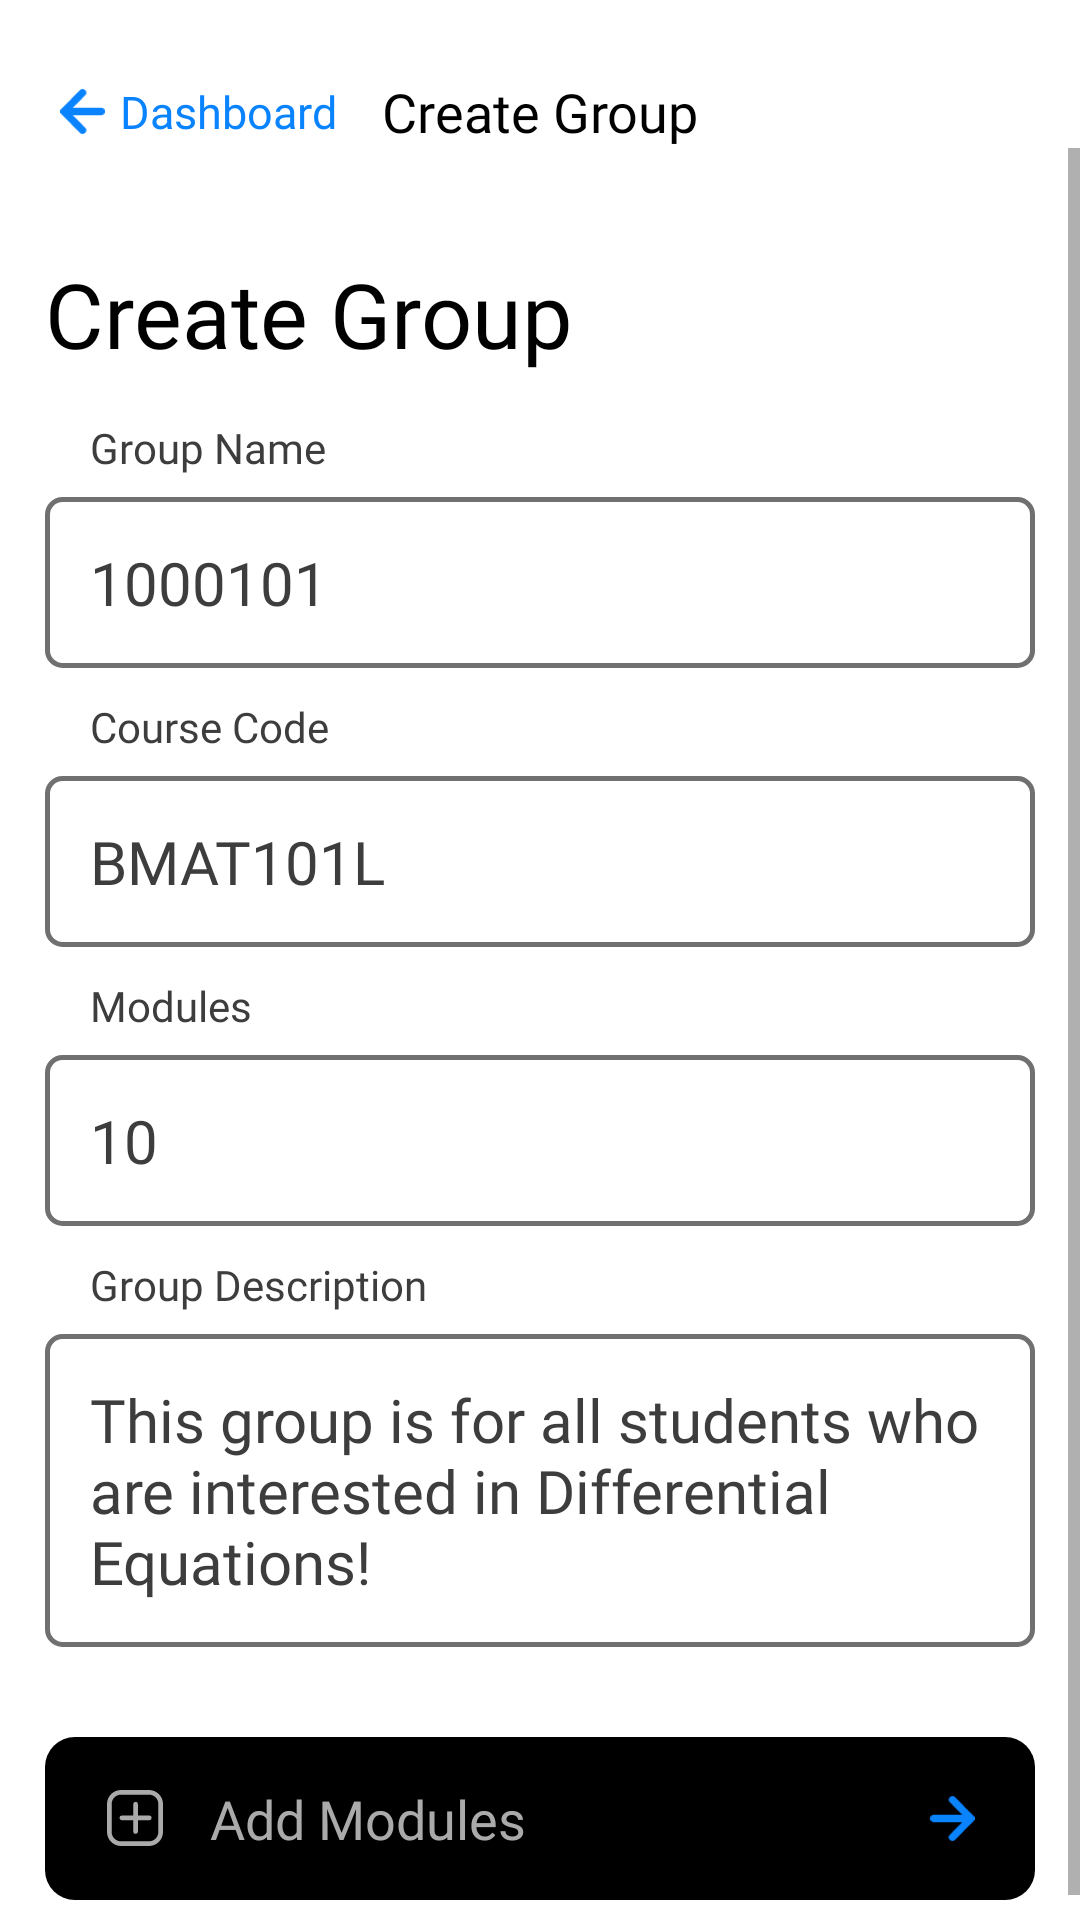

Point at icon controls on the screen. Image size 1080w x 1920h, points as (x=x, y=y).
addnew: (x=135, y=1818)
arrow left: (x=82, y=111)
arrow right: (x=952, y=1818)
